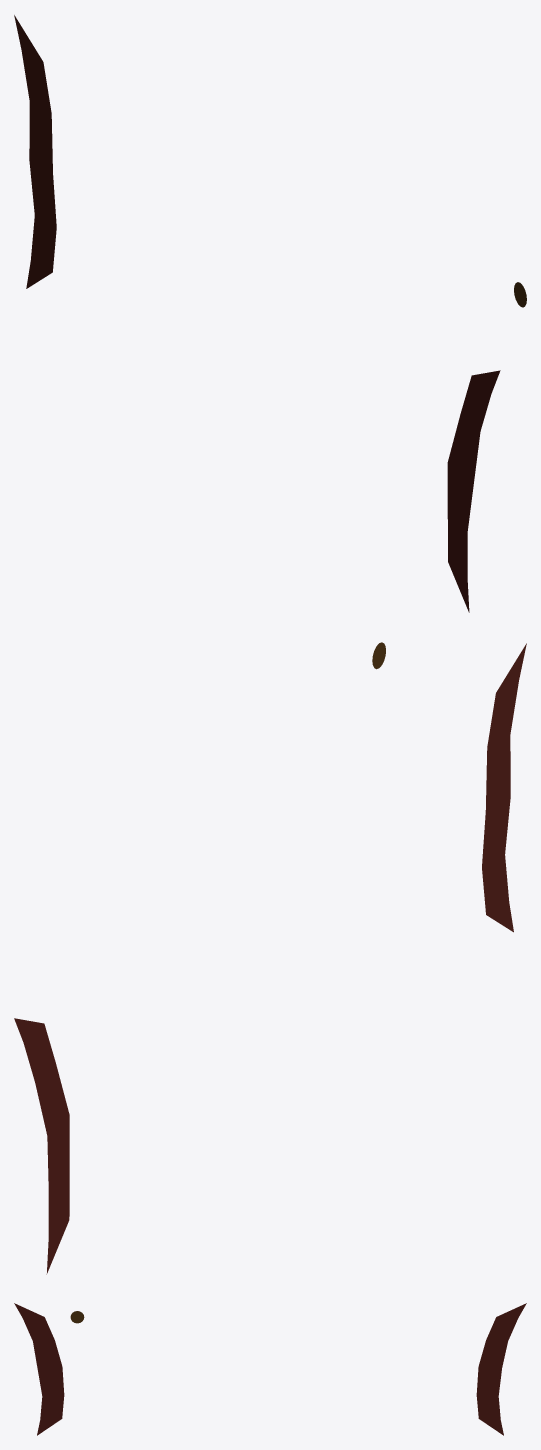
File: AgentCaseyCheekbones.glb
3 views of the same model, one above another, from view 1: azimuth 30°, elevation 25°; view 2: azimuth 150°, elevation 25°; view 3: azimuth 270°, elevation 25° (orthographic). The views are drawn at different scales.
Parts seen in each view (by area): view 1: BOWCaseyCheeks; view 2: BOWCaseyCheeks; view 3: BOWCaseyCheeks.
Boxes of the visible parts, box(x1,y1,x2,y2) form: BOWCaseyCheeks: box(14, 15, 526, 612); BOWCaseyCheeks: box(14, 642, 526, 1274); BOWCaseyCheeks: box(14, 1303, 526, 1435).
Bounding box in the file's own units: 0.3006 × 0.9018 × 2.83.
